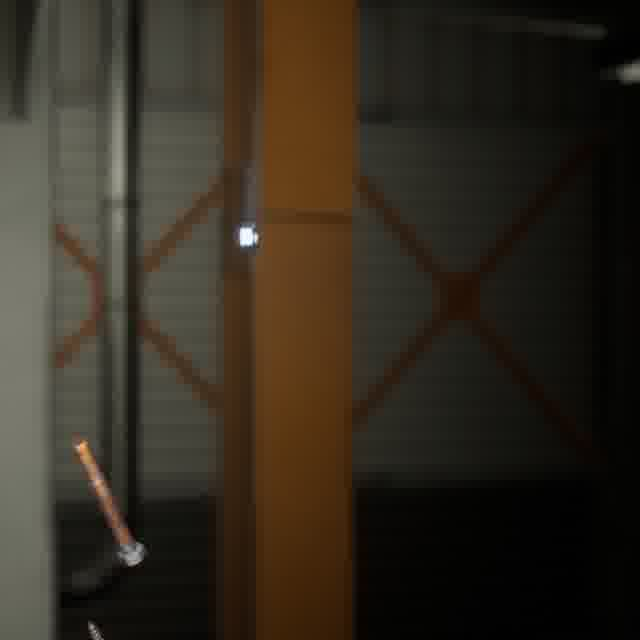bolt: (67, 432, 149, 570)
nut: (235, 216, 263, 257)
